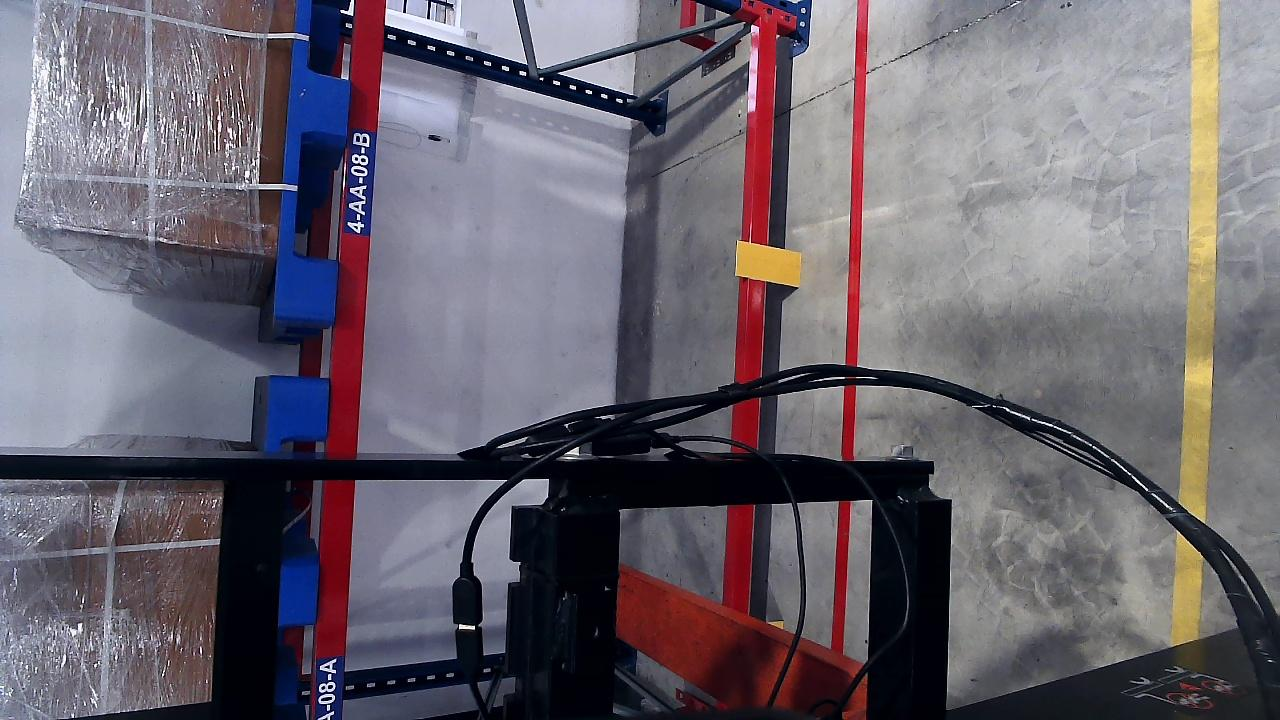h_rack: (323, 0, 390, 483), (740, 14, 781, 379), (312, 482, 358, 717), (723, 401, 761, 613)
orange_strip: (735, 241, 802, 287)
red_line: (843, 3, 868, 365)
small_pallet: (270, 0, 344, 317)
yellow_line: (1177, 2, 1222, 519)
